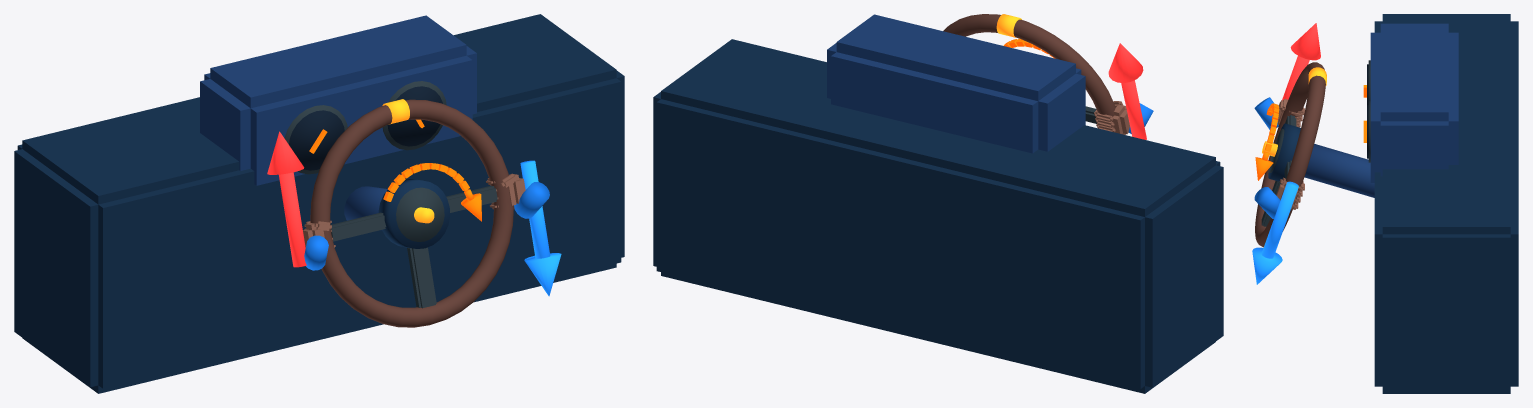
The model's file is bai1_ngau_luc_vo_lang.glb.
The picture shows the model from 3 angles, left to right: view 1: azimuth 30°, elevation 25°; view 2: azimuth 150°, elevation 25°; view 3: azimuth 270°, elevation 25°; orthographic projection. The views are drawn at different scales.
Visible parts, largest first — view 1: Dashboard_Main, Dashboard_Hood, Wheel_Rim, Arrow_Couple_Left, GaugeFace_-0.24, Arrow_Couple_Right, Wheel_HornRing, Wheel_HornPad, GaugeFace_0.24, Wheel_SpokeBottom, Column_Shroud, Wheel_SpokeSide_-1 (+5 smaller); view 2: Dashboard_Main, Dashboard_Hood, Wheel_Rim, Arrow_Couple_Left; view 3: Dashboard_Main, Dashboard_Hood, Wheel_Rim, Column_Shroud, Arrow_Couple_Right, Arrow_Couple_Left, Wheel_HornPad, Hand_Right_Wrist, Hand_Left_Wrist, RotArc_Head, Wheel_HornRing.
Part boxes in pixels (<box>): Dashboard_Main: <box>14,14,624,393</box>; Dashboard_Hood: <box>200,15,476,185</box>; Wheel_Rim: <box>310,99,513,327</box>; Arrow_Couple_Left: <box>267,131,306,267</box>; GaugeFace_-0.24: <box>289,110,344,170</box>; Arrow_Couple_Right: <box>520,160,561,296</box>; Wheel_HornRing: <box>396,187,444,241</box>; Wheel_HornPad: <box>378,179,449,248</box>; GaugeFace_0.24: <box>387,86,442,146</box>; Wheel_SpokeBottom: <box>407,247,436,308</box>; Column_Shroud: <box>344,186,387,230</box>; Wheel_SpokeSide_-1: <box>331,212,386,241</box>; Dashboard_Main: <box>653,39,1223,393</box>; Dashboard_Hood: <box>827,14,1085,153</box>; Wheel_Rim: <box>943,14,1115,127</box>; Arrow_Couple_Left: <box>1108,43,1146,139</box>; Dashboard_Main: <box>1374,14,1518,393</box>; Dashboard_Hood: <box>1370,23,1458,182</box>; Wheel_Rim: <box>1255,62,1325,247</box>; Column_Shroud: <box>1304,144,1374,197</box>; Arrow_Couple_Right: <box>1252,181,1298,284</box>; Arrow_Couple_Left: <box>1282,23,1320,100</box>; Wheel_HornPad: <box>1268,123,1300,181</box>; Hand_Right_Wrist: <box>1254,187,1280,218</box>; Hand_Left_Wrist: <box>1254,97,1278,129</box>; RotArc_Head: <box>1255,151,1273,180</box>; Wheel_HornRing: <box>1269,128,1284,172</box>.
Size of the model in its own units: 2.6 by 1.21 by 1.33.
